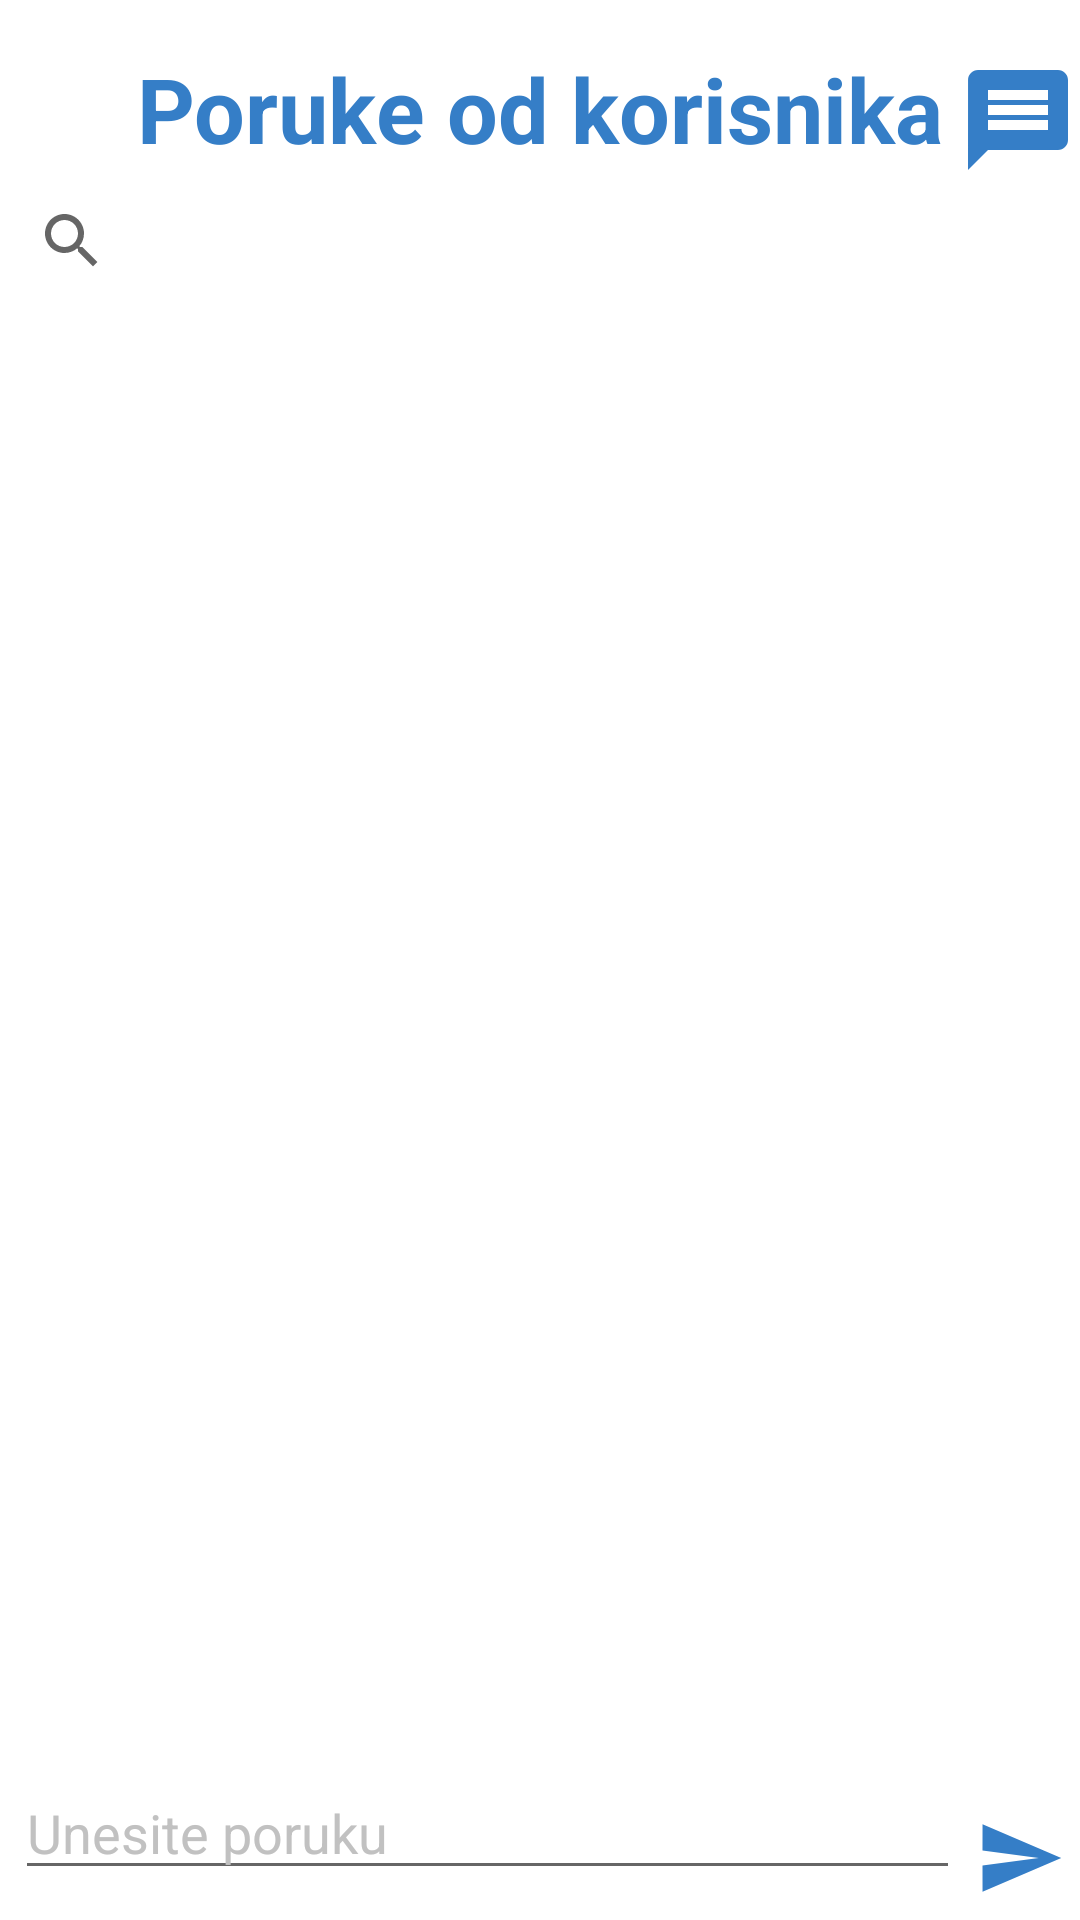

Where to tap for icons on this 1080 x 1920 app screen, as [x,y]:
message: [1018,120]
send: [1021,1858]
